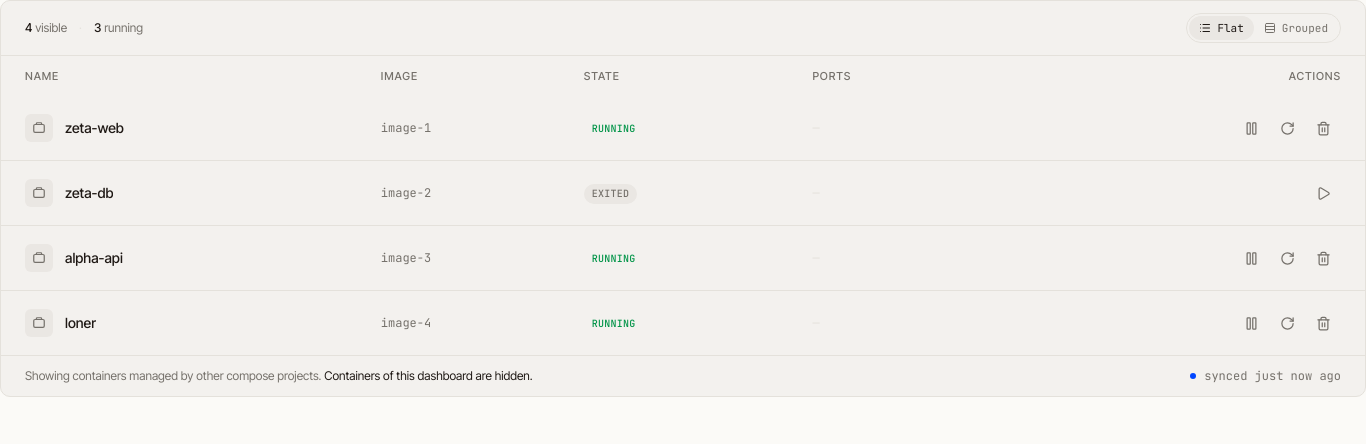
grouped view › can switch back to the flat list
This screenshot has width=1366, height=444.
Expected: the text "zeta-web" is shown, [65,118,124,138]
Step 1. Click the button titled "Grouped by compose project" → (1296, 28), box [1254,16,1338,40]
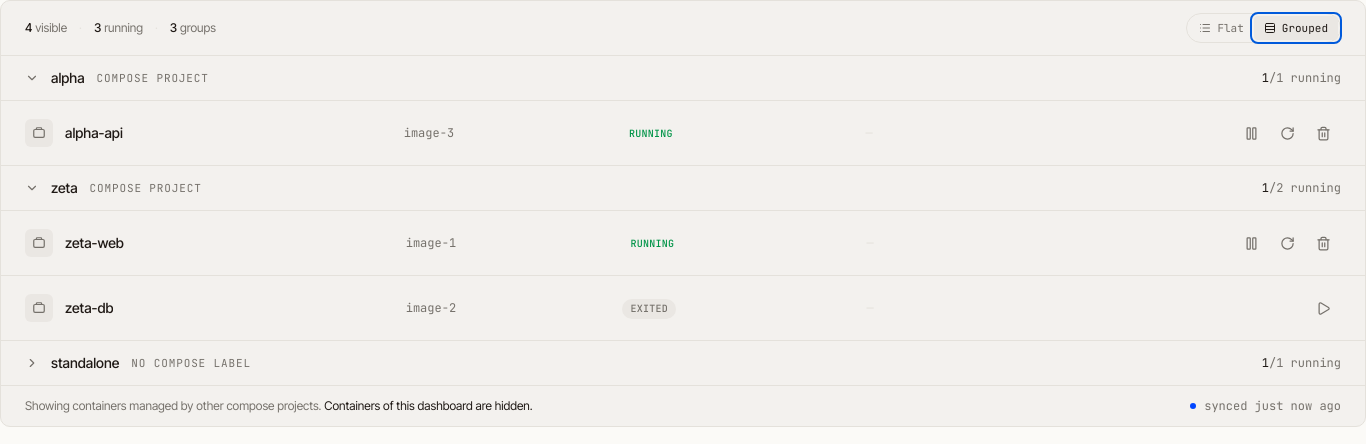
Step 2. Click the button titled "Flat list" → (1222, 28), box [1189,16,1254,40]
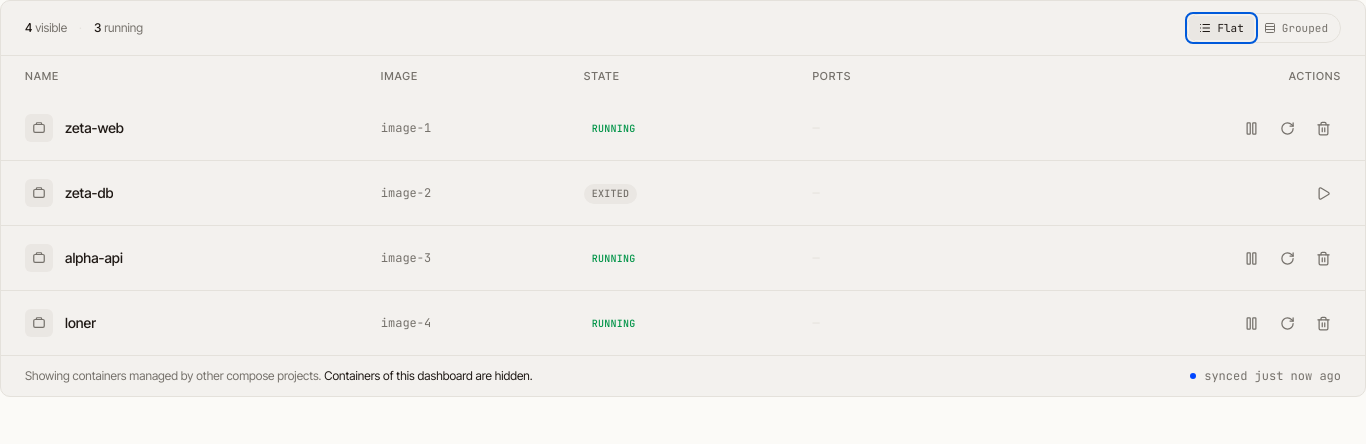
Now the column heading "Image" is shown, box [369,56,572,96]
